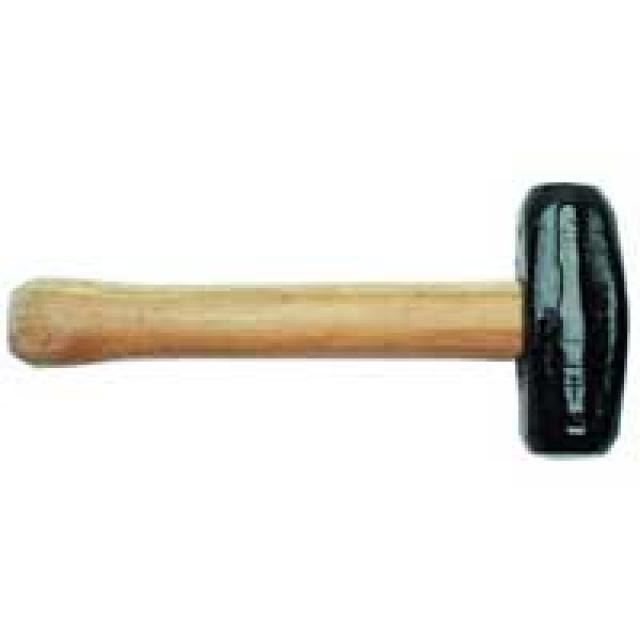hammer: (0, 166, 640, 462)
